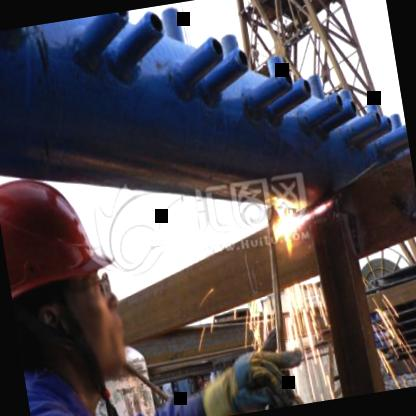helmet: (0, 126, 153, 409)
